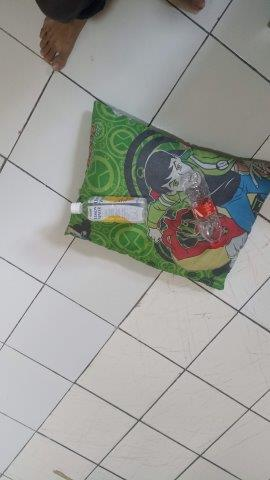botolplastik: (182, 174, 225, 252), (68, 197, 150, 228)
